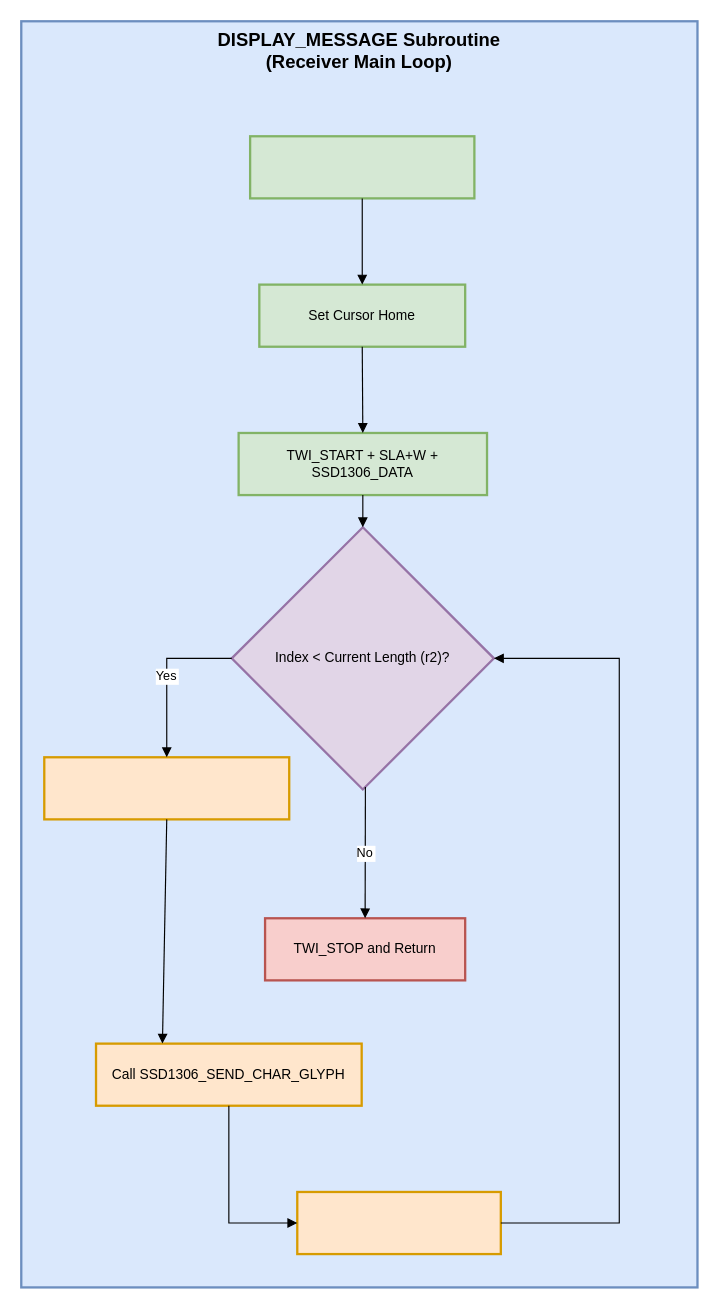
The diagram is 718 pixels wide and 1308 high, and some of its shapes have lost their labels. Here are the shapes that lost their labels. From the top down, the centre of each, then its label:
At (x=361, y=167): "Clear OLED Display".
At (x=166, y=788): "Load MSG_BUF[index] from SRAM".
At (x=398, y=1222): "Increment Index (index++)".
